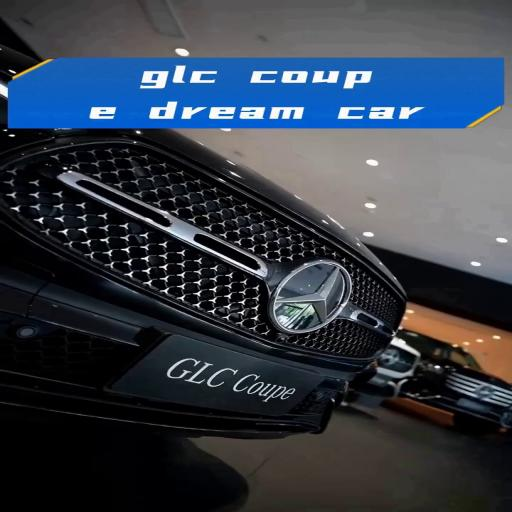Sedan-sDLz: (0, 33, 412, 441)
suv: (391, 329, 512, 435)
